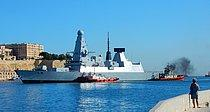MIL_Ship: (13, 28, 150, 82)
